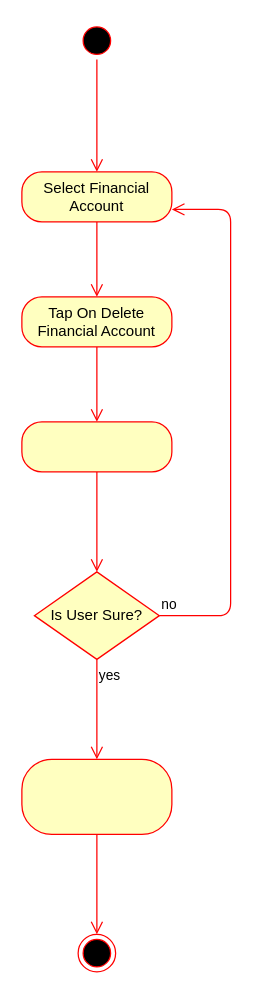
Some shapes in this 265 by 994 pixel diagram are drawn without their labels. Here are the shapes that lost their labels. From the top down, the box of each, then its label:
(21, 421, 172, 472): Display"Are you sure?"
(21, 758, 172, 834): Display "Financial Account Removed successfully"
